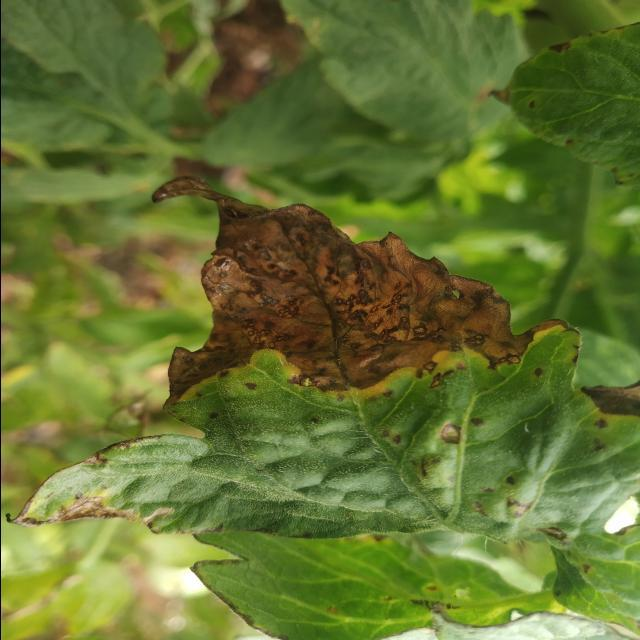Tomato mosaic virus leaf: (146, 172, 586, 546)
